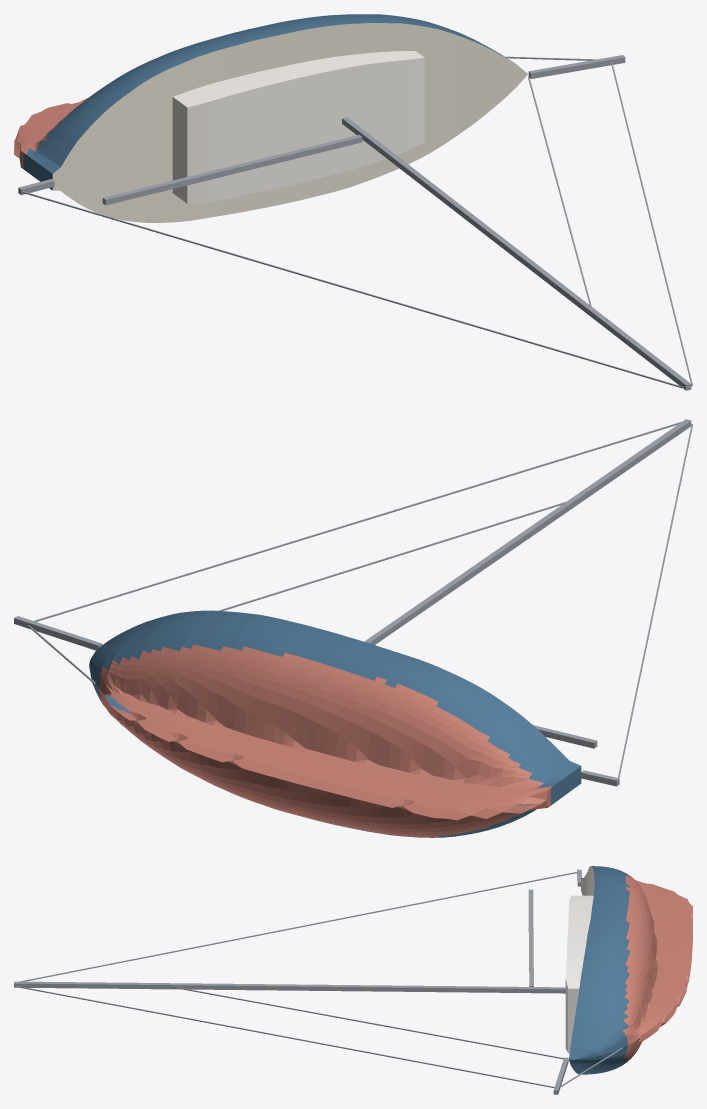
Rendered from westsail-32-lines.glb.
3 views of the same model, one above another, from view 1: azimuth 30°, elevation 25°; view 2: azimuth 150°, elevation 25°; view 3: azimuth 270°, elevation 25° (orthographic). The views are drawn at different scales.
Parts seen in each view (by area): view 1: Westsail 32; view 2: Westsail 32; view 3: Westsail 32.
Boxes of the visible parts, x1=… form: Westsail 32: x1=14, y1=14, x2=692, y2=390; Westsail 32: x1=14, y1=419, x2=692, y2=837; Westsail 32: x1=14, y1=866, x2=692, y2=1094.
Bounding box in the file's own units: 2.52 × 0.694 × 3.27.
